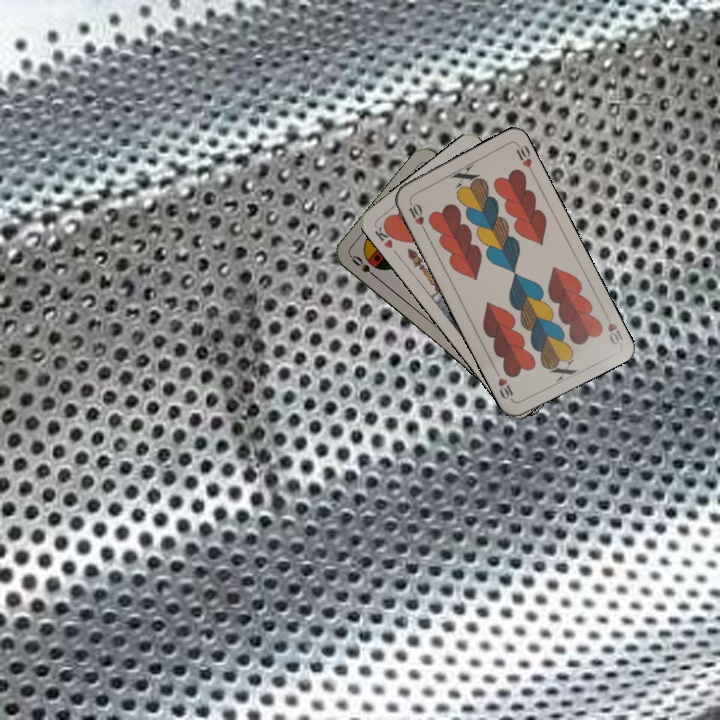H10: (600, 308, 626, 348), (404, 196, 429, 234)
HK: (371, 220, 399, 251)
SO: (347, 251, 382, 282)
